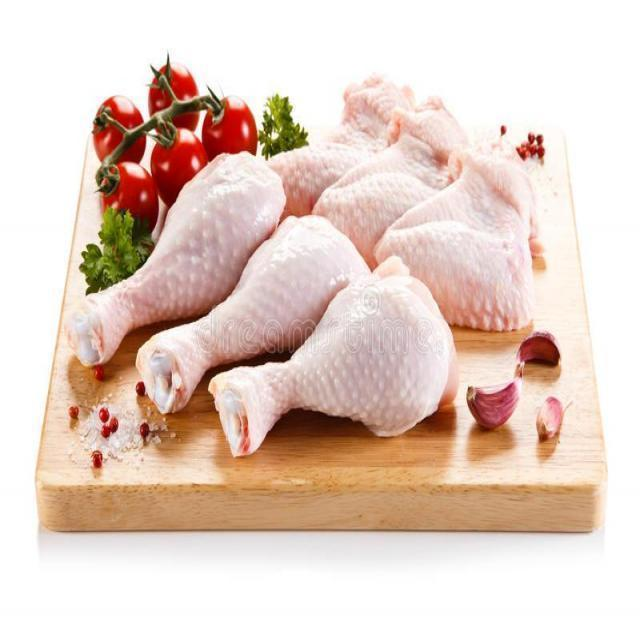Chicken: (65, 74, 539, 458)
